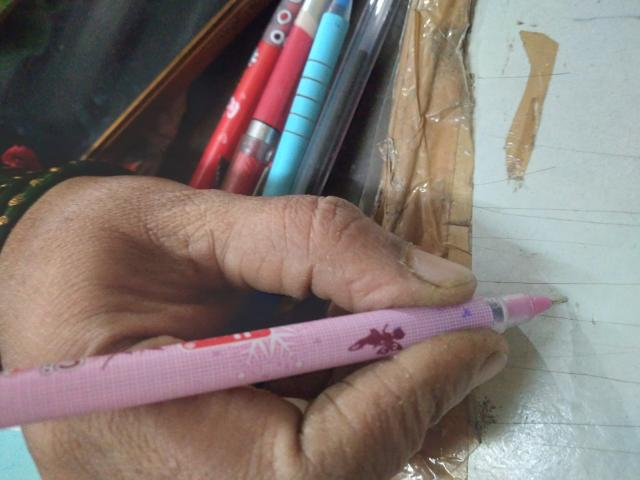PEN: (34, 3, 228, 480)
